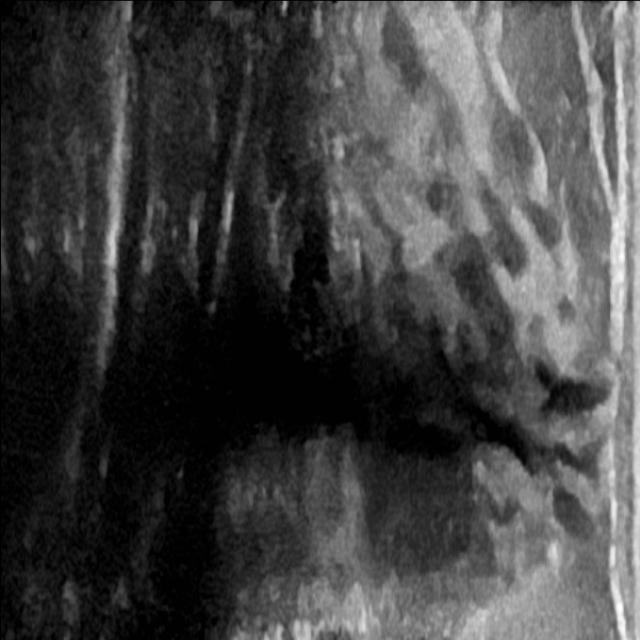Normal: (21, 31, 632, 612)
